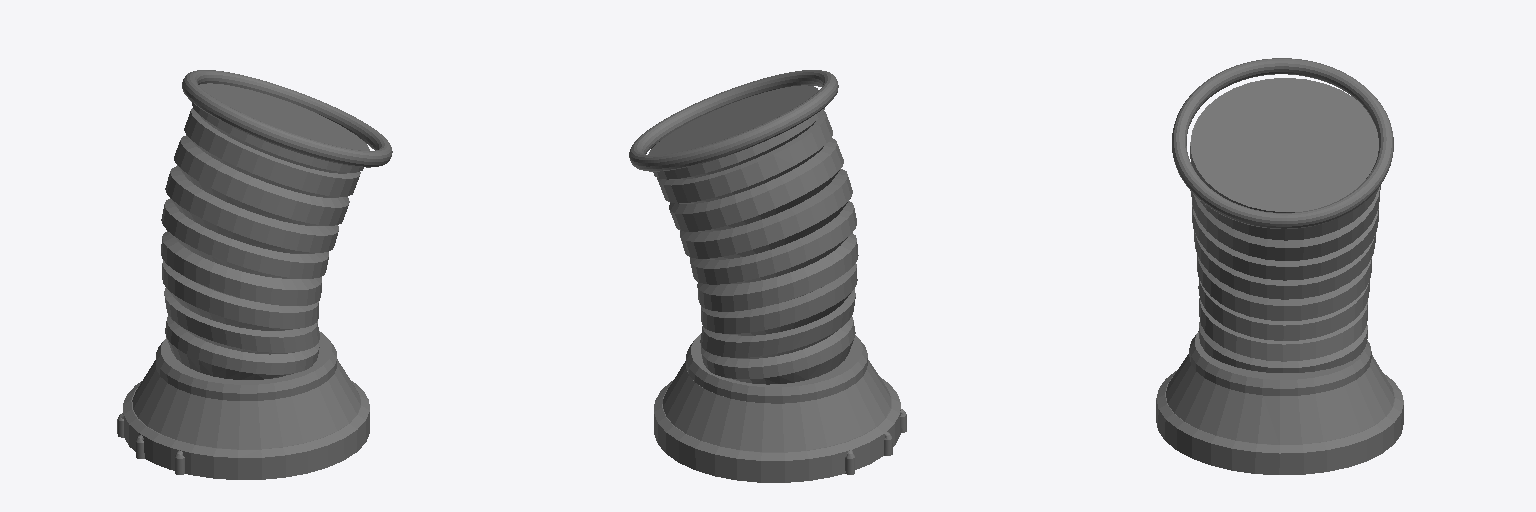
File: goddard_pata3.obj
The picture shows the model from 3 angles: view 1: azimuth 30°, elevation 25°; view 2: azimuth 150°, elevation 25°; view 3: azimuth 270°, elevation 25°; orthographic projection.
Parts seen in each view (by area): view 1: C_rculo_007_C_rculo_008, C_rculo_015_C_rculo_016, C_rculo_014_C_rculo_015, C_rculo_004, C_rculo_016_C_rculo_017, Cilindro_001_Cilindro_006; view 2: C_rculo_007_C_rculo_008, C_rculo_015_C_rculo_016, C_rculo_014_C_rculo_015, C_rculo_004, C_rculo_016_C_rculo_017, Cilindro_001_Cilindro_006; view 3: C_rculo_007_C_rculo_008, C_rculo_015_C_rculo_016, C_rculo_004, C_rculo_014_C_rculo_015, C_rculo_016_C_rculo_017.
Part boxes in pixels (left/top/right/bottom): C_rculo_007_C_rculo_008: left=161, top=83, right=369, bottom=379; C_rculo_015_C_rculo_016: left=132, top=359, right=360, bottom=449; C_rculo_014_C_rculo_015: left=123, top=381, right=369, bottom=479; C_rculo_004: left=182, top=70, right=392, bottom=167; C_rculo_016_C_rculo_017: left=156, top=331, right=336, bottom=400; Cilindro_001_Cilindro_006: left=117, top=413, right=184, bottom=474; C_rculo_007_C_rculo_008: left=648, top=85, right=858, bottom=384; C_rculo_015_C_rculo_016: left=663, top=360, right=890, bottom=451; C_rculo_014_C_rculo_015: left=654, top=377, right=900, bottom=482; C_rculo_004: left=629, top=70, right=838, bottom=171; C_rculo_016_C_rculo_017: left=686, top=334, right=867, bottom=403; Cilindro_001_Cilindro_006: left=845, top=409, right=906, bottom=474; C_rculo_007_C_rculo_008: left=1190, top=78, right=1380, bottom=372; C_rculo_015_C_rculo_016: left=1166, top=354, right=1394, bottom=444; C_rculo_004: left=1172, top=58, right=1393, bottom=228; C_rculo_014_C_rculo_015: left=1156, top=371, right=1403, bottom=474; C_rculo_016_C_rculo_017: left=1189, top=331, right=1371, bottom=395.
Size of the model in its own units: 1.17 by 1.59 by 1.03.